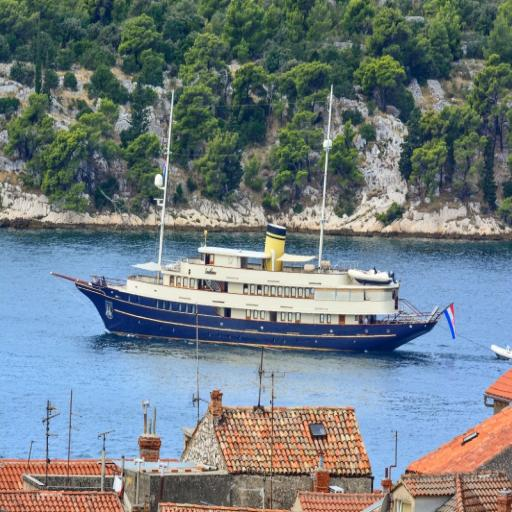cruises: (72, 222, 467, 359)
